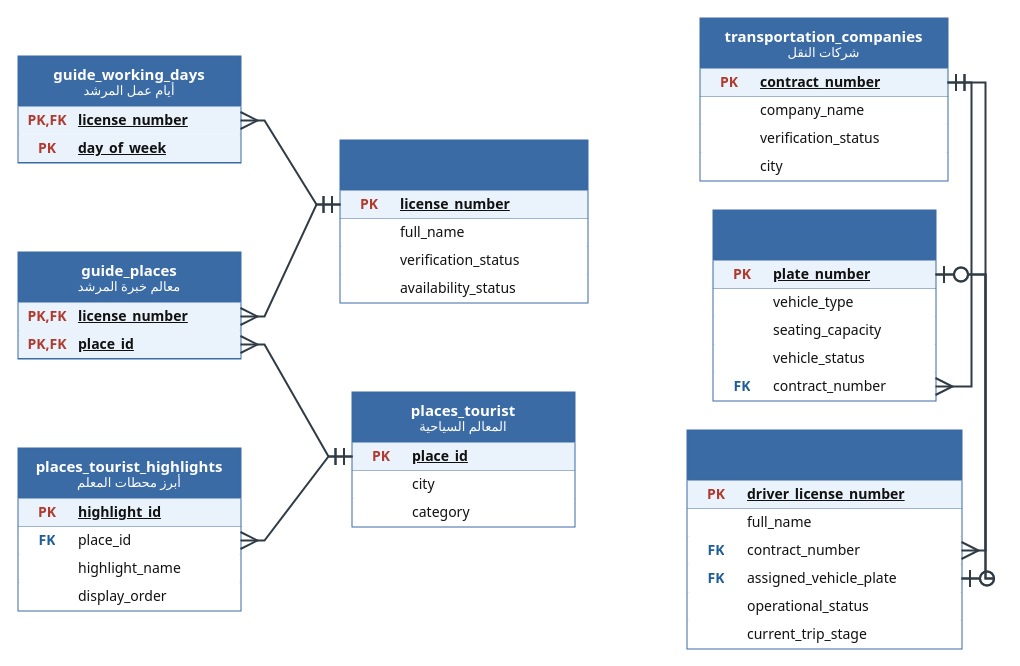
Image size: 1020x666. Some labels were removed from this diagram. Here are the shapes that lost their labels. From the top down, the box of each, then its label:
(339, 139, 588, 303): tour_guides المرشدون السياحيون
(712, 209, 936, 401): vehicles المركبات
(686, 429, 962, 649): drivers السائقون
